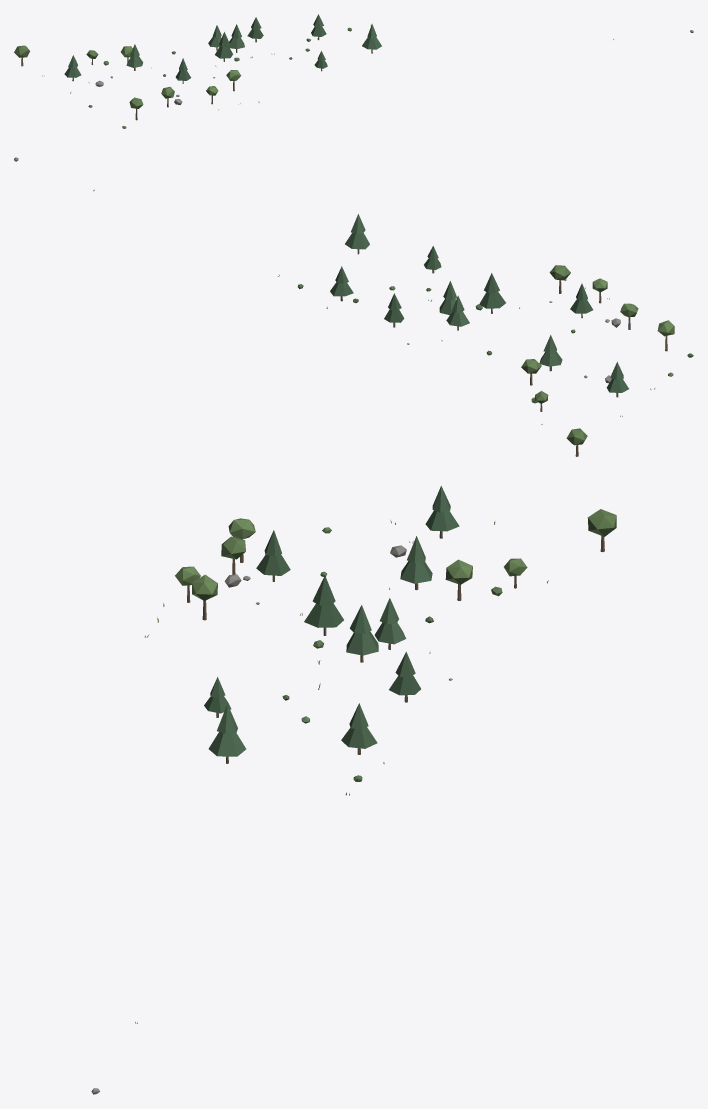
The model's file is arch_land_scatter_c17_21_lod1.glb.
3 renders of one model, top to bottom at view 1: azimuth 30°, elevation 25°; view 2: azimuth 150°, elevation 25°; view 3: azimuth 270°, elevation 25°, orthographic. The views are drawn at different scales.
Parts seen in each view (by area): view 1: arch_land_scatter_c17_21_lod1; view 2: arch_land_scatter_c17_21_lod1; view 3: arch_land_scatter_c17_21_lod1.
Boxes of the visible parts, x1,y1,x2,y2 form: arch_land_scatter_c17_21_lod1: [14, 14, 693, 128]; arch_land_scatter_c17_21_lod1: [14, 157, 693, 456]; arch_land_scatter_c17_21_lod1: [91, 486, 616, 1094].
Bounding box in the file's own units: 232 × 23.83 × 95.52.
